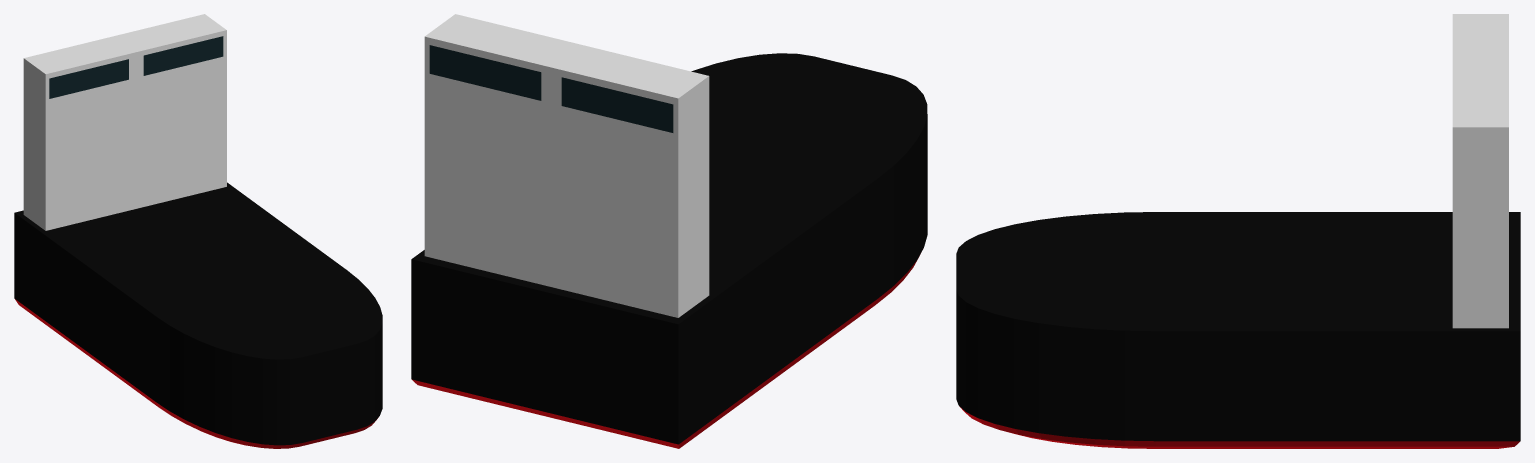
The model's file is Cargoship.fbx.
3 views of the same model, side by side, from view 1: azimuth 30°, elevation 25°; view 2: azimuth 150°, elevation 25°; view 3: azimuth 270°, elevation 25° (orthographic). The views are drawn at different scales.
Parts seen in each view (by area): view 1: Boat, Cube; view 2: Boat, Cube; view 3: Boat, Cube.
Boxes of the visible parts, box(x1,y1,x2,y2) form: Boat: box(14, 182, 382, 448); Cube: box(23, 14, 226, 230); Boat: box(411, 53, 927, 448); Cube: box(424, 14, 709, 317); Boat: box(956, 212, 1520, 448); Cube: box(1452, 14, 1508, 328).
Size of the model in its own units: 2000 by 2571 by 4000.
